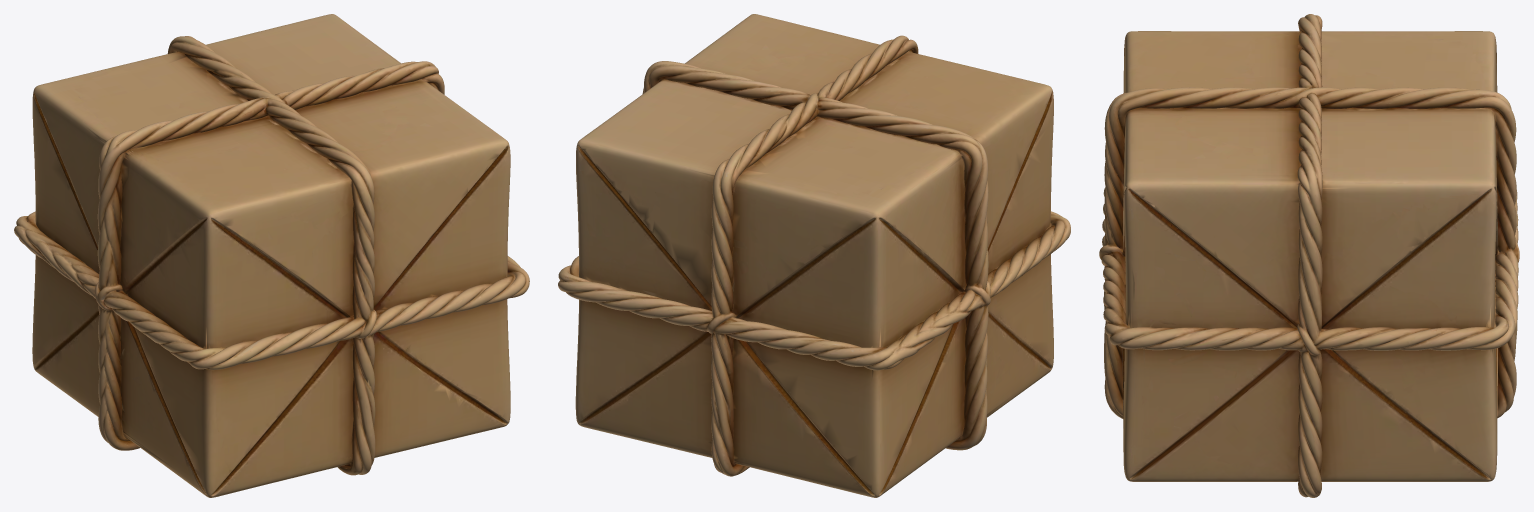
Rendered from A_folded_cardboard_box_bundle_tied_with_string.glb.
3 renders of one model, left to right at view 1: azimuth 30°, elevation 25°; view 2: azimuth 150°, elevation 25°; view 3: azimuth 270°, elevation 25°, orthographic. The views are drawn at different scales.
Visible parts, largest first — view 1: node_0; view 2: node_0; view 3: node_0.
Part boxes in pixels (<box>): node_0: <box>14,14,529,497</box>; node_0: <box>558,14,1070,497</box>; node_0: <box>1099,14,1519,497</box>.
Size of the model in its own units: 0.8323 by 0.7294 by 0.828.
1 material, 1 textured.
